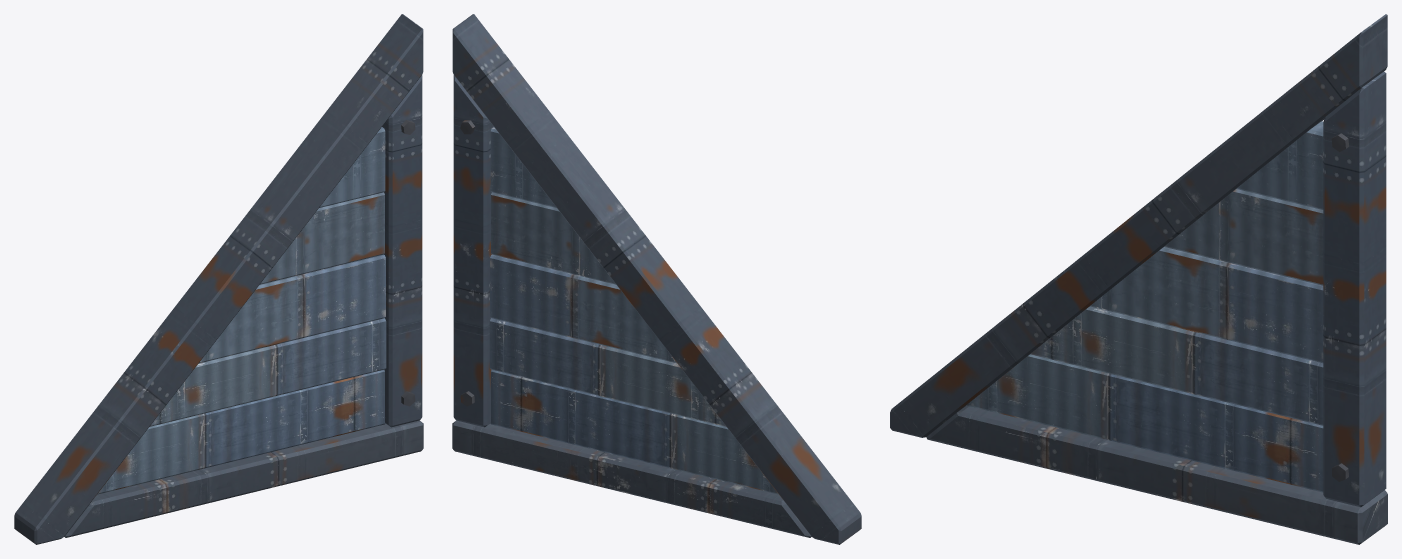
Rendered from ucgen_duvar.glb.
3 views of the same model, side by side, from view 1: azimuth 30°, elevation 25°; view 2: azimuth 150°, elevation 25°; view 3: azimuth 330°, elevation 25° (orthographic). The views are drawn at different scales.
Visible parts, largest first — view 1: ucgen_duvar; view 2: ucgen_duvar; view 3: ucgen_duvar.
Part boxes in pixels (x1,y1,x2,y2): ucgen_duvar: (14,14,423,544); ucgen_duvar: (452,14,861,544); ucgen_duvar: (890,14,1387,544).
Size of the model in its own units: 3 by 3.11 by 0.35.
1 material, 1 textured.
